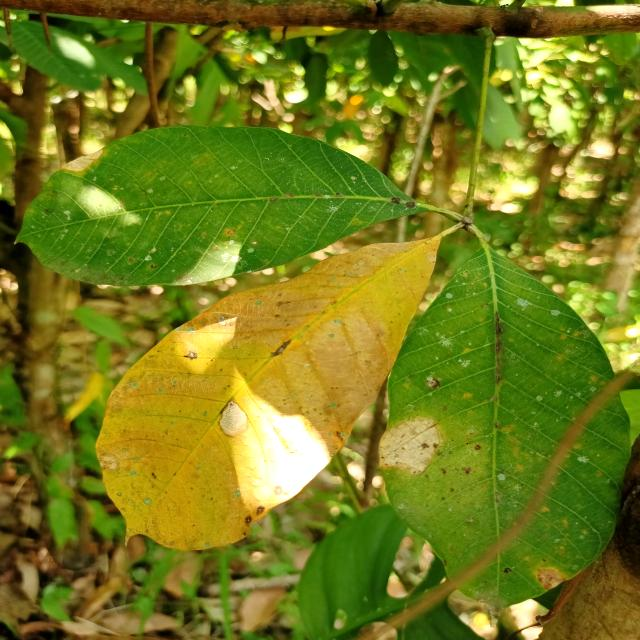Colletotrichum: (426, 378, 441, 389), (389, 197, 401, 204), (256, 506, 265, 515), (405, 202, 414, 208), (245, 516, 252, 523), (474, 444, 481, 450), (504, 568, 512, 573), (150, 265, 158, 268), (264, 262, 268, 265), (336, 193, 340, 195)
Leaf-Blight: (379, 417, 439, 474), (219, 401, 247, 437), (538, 568, 566, 590)
